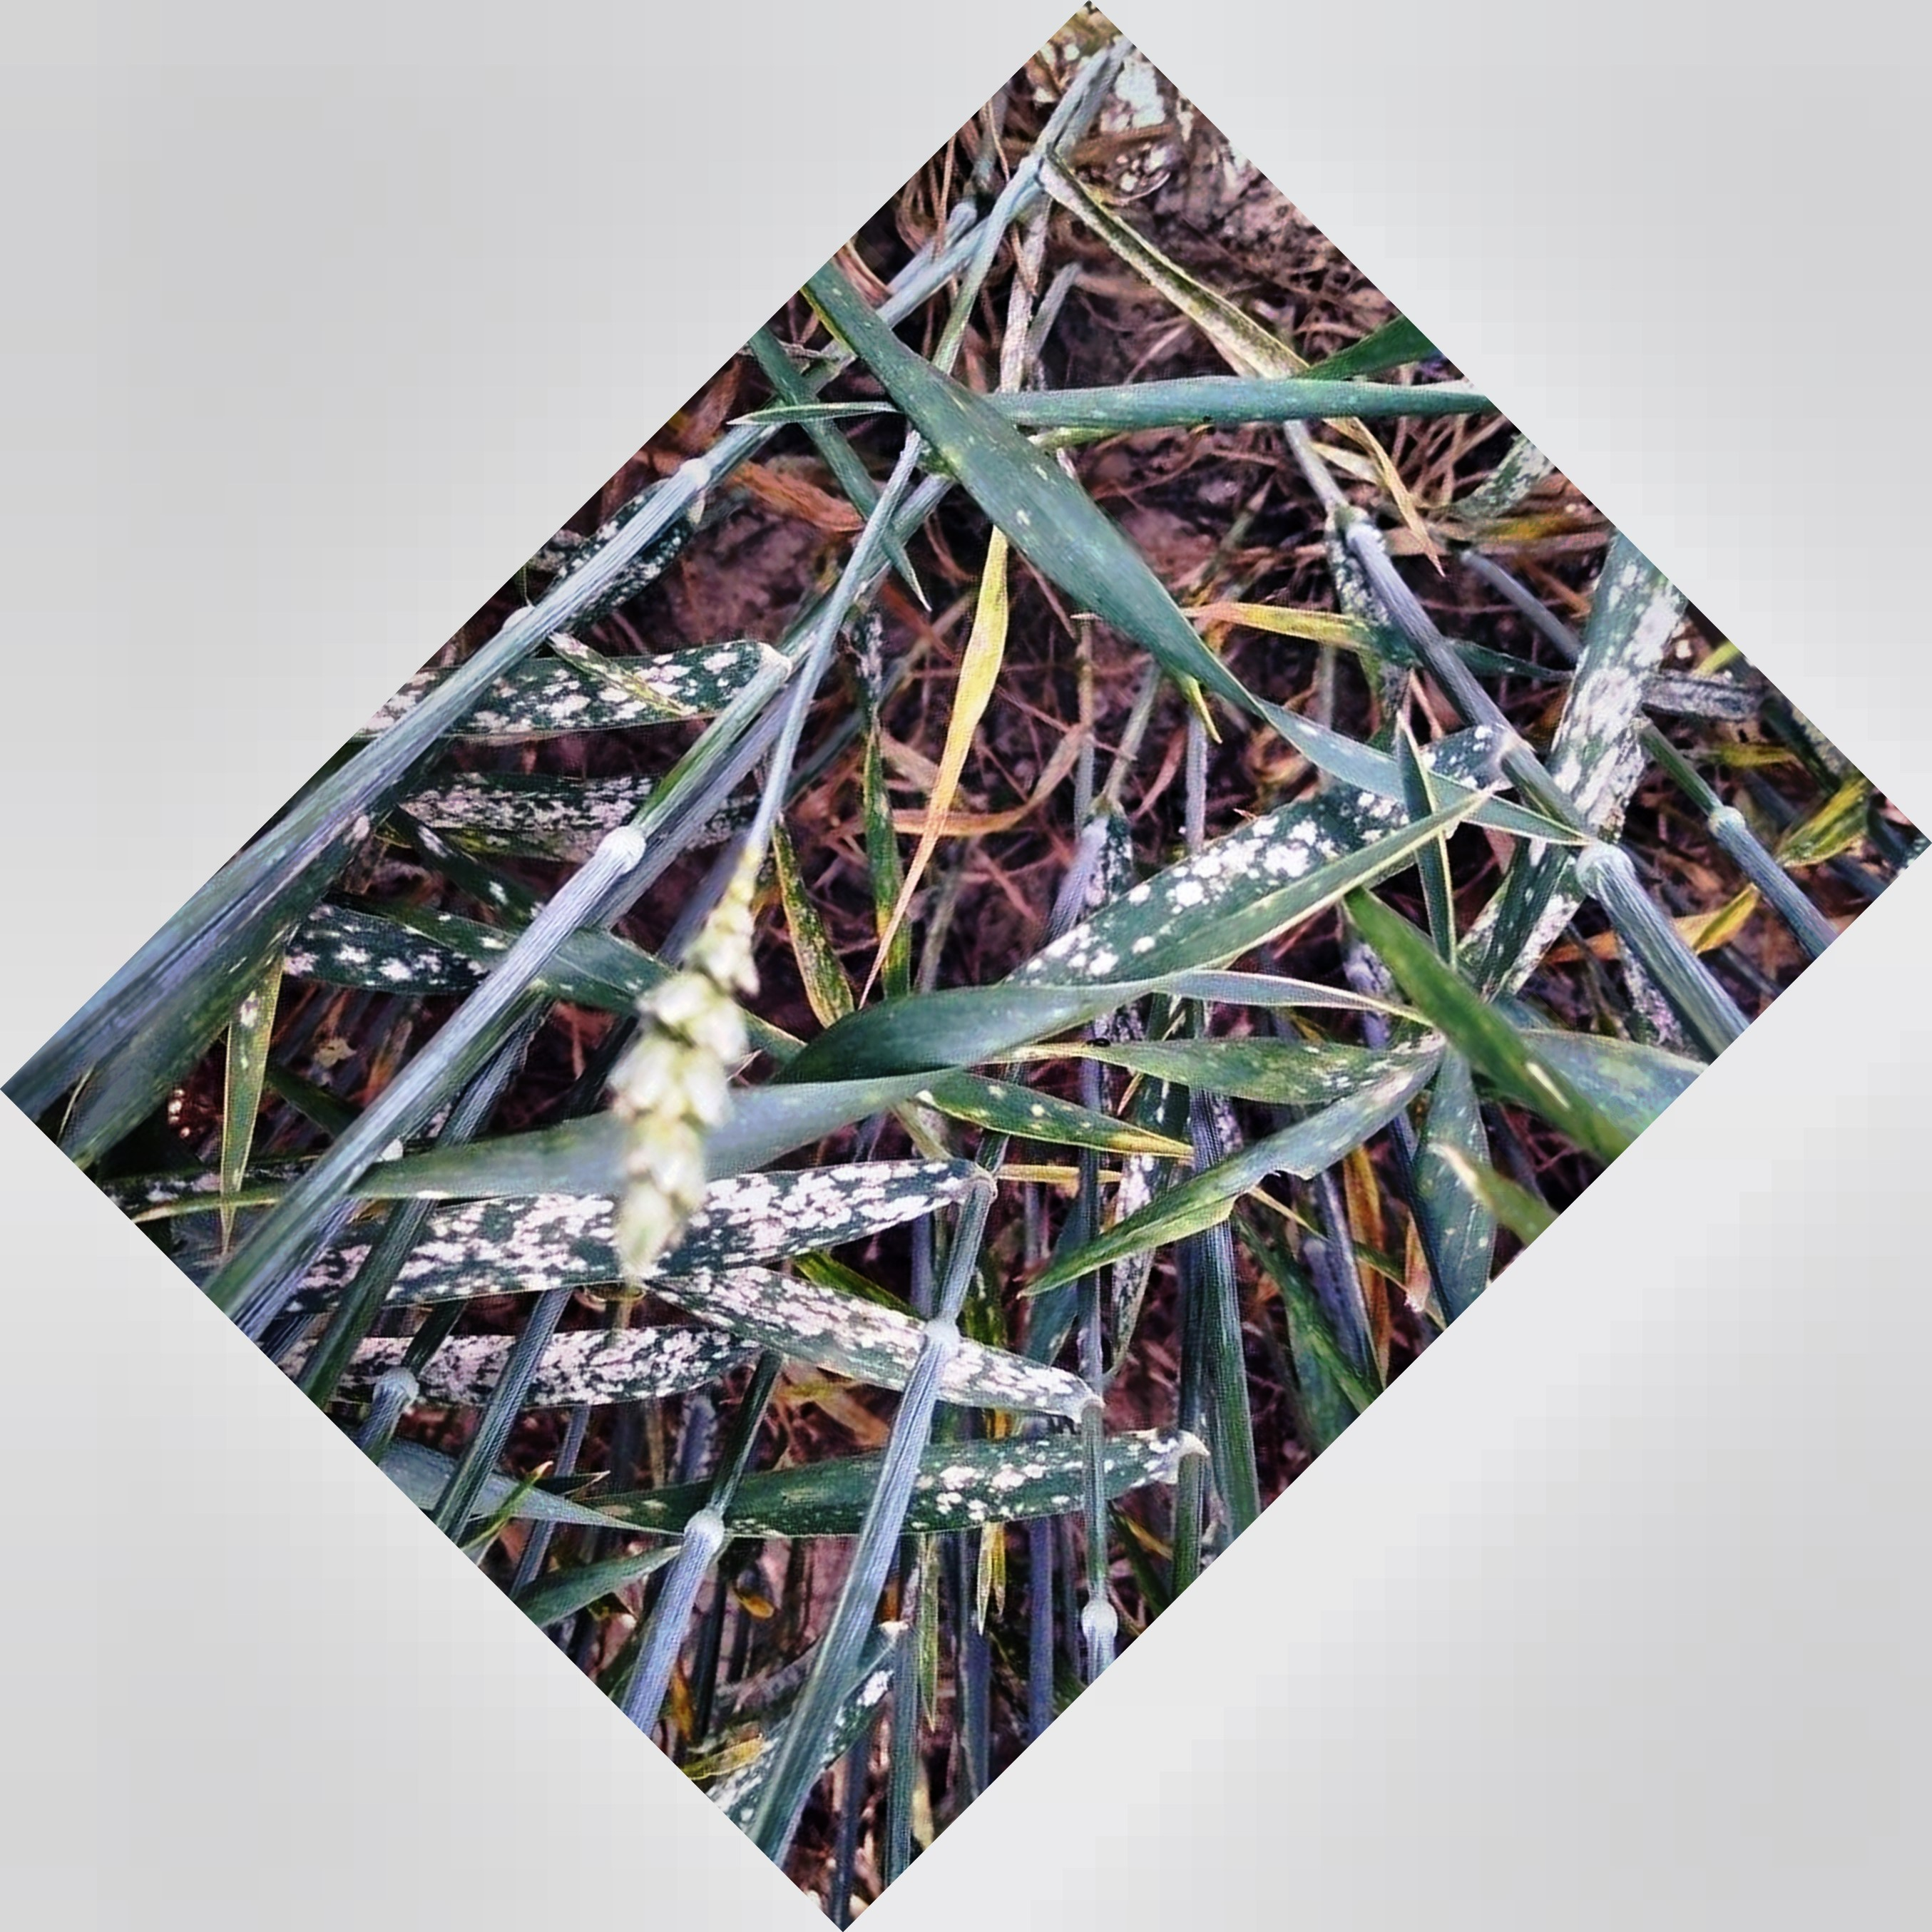Powdery Mildew: (387, 1152, 1019, 1430), (313, 614, 722, 874), (1056, 775, 1415, 982)
